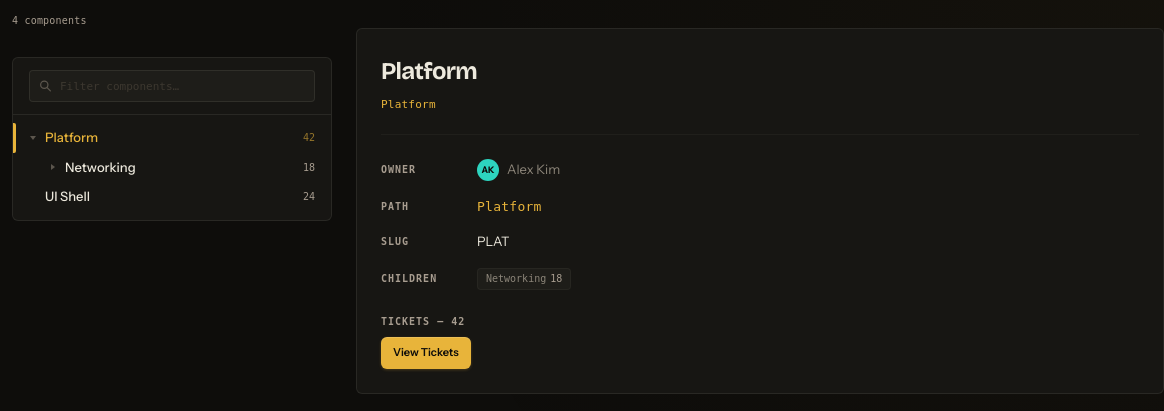
Test: ComponentTreePage › filters tree by name
Type "DNS" into the field with placeholder "Filter components…" at (172, 86), box [29,70,315,102]
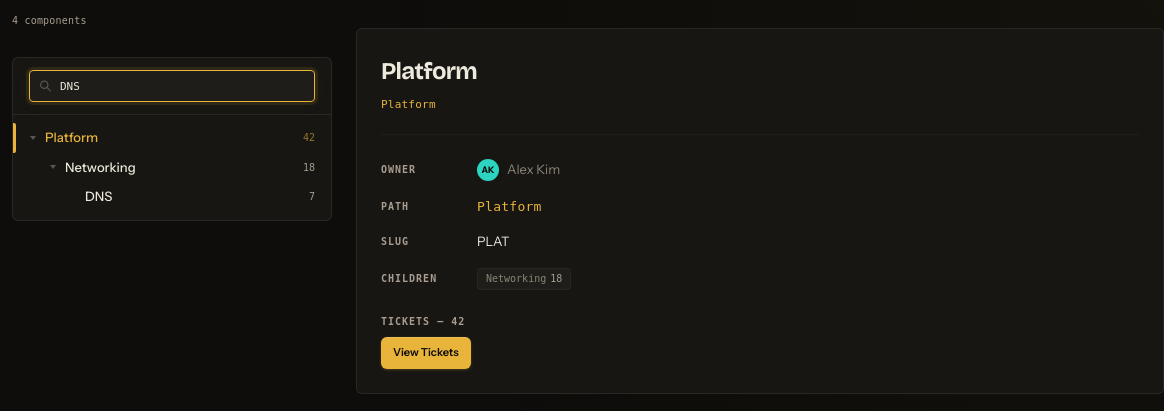
Expected: the text "UI Shell" is gone
